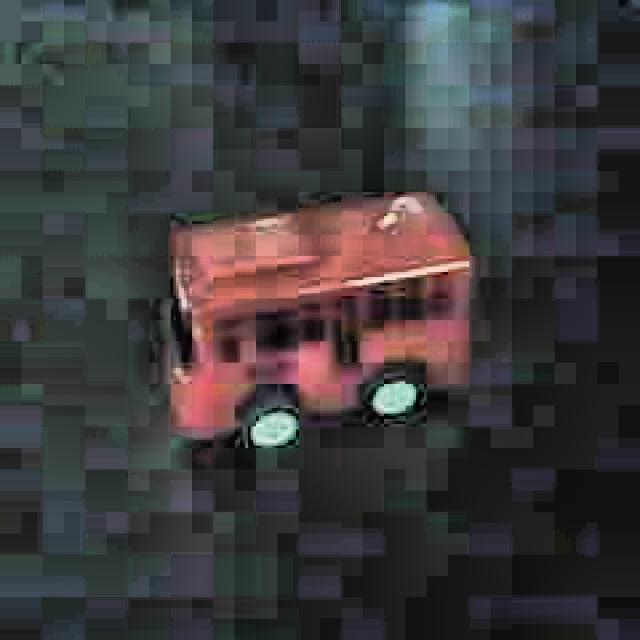bus: (153, 186, 481, 462)
